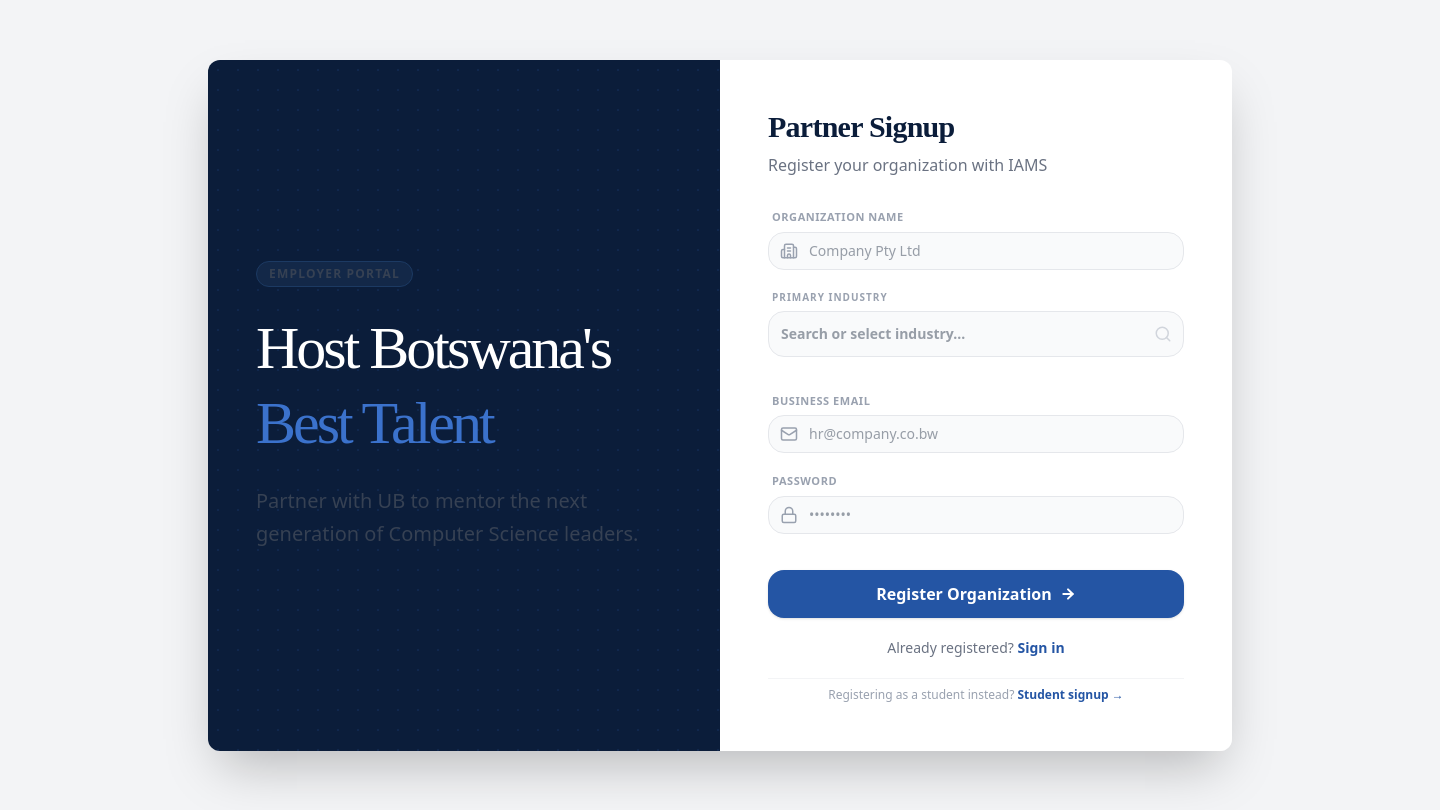
US-02: Organisation Registration › shows error banner when org registration fails
The image size is (1440, 810).
Type "Test Org" into the field with placeholder "Company Pty Ltd" at (976, 250), box x1=768 y1=232 x2=1184 y2=270
Type "Technology" into the field with placeholder "Search or select industry..." at (976, 334), box x1=768 y1=310 x2=1184 y2=356
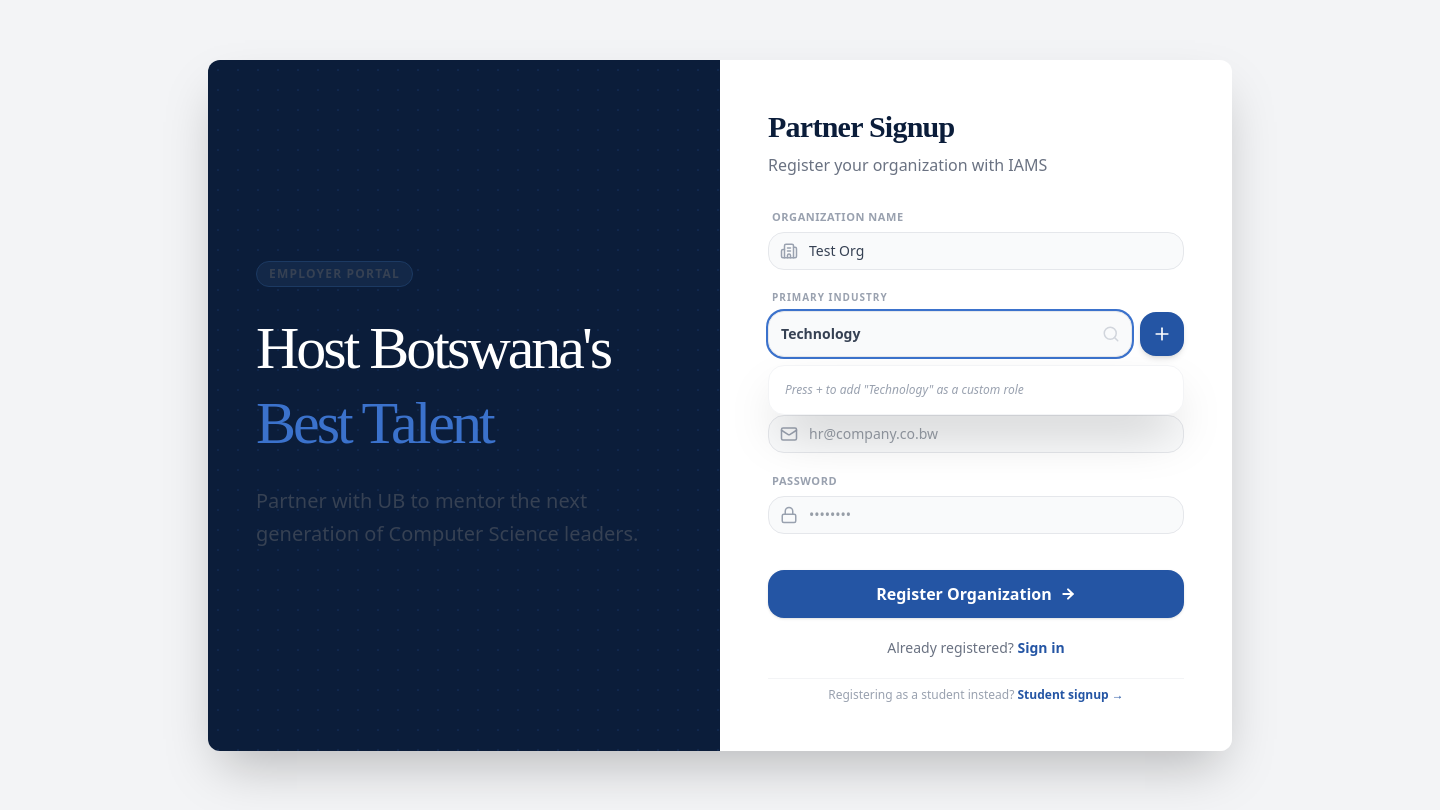
Click the 1st button at (1162, 334), box x1=1140 y1=312 x2=1184 y2=356
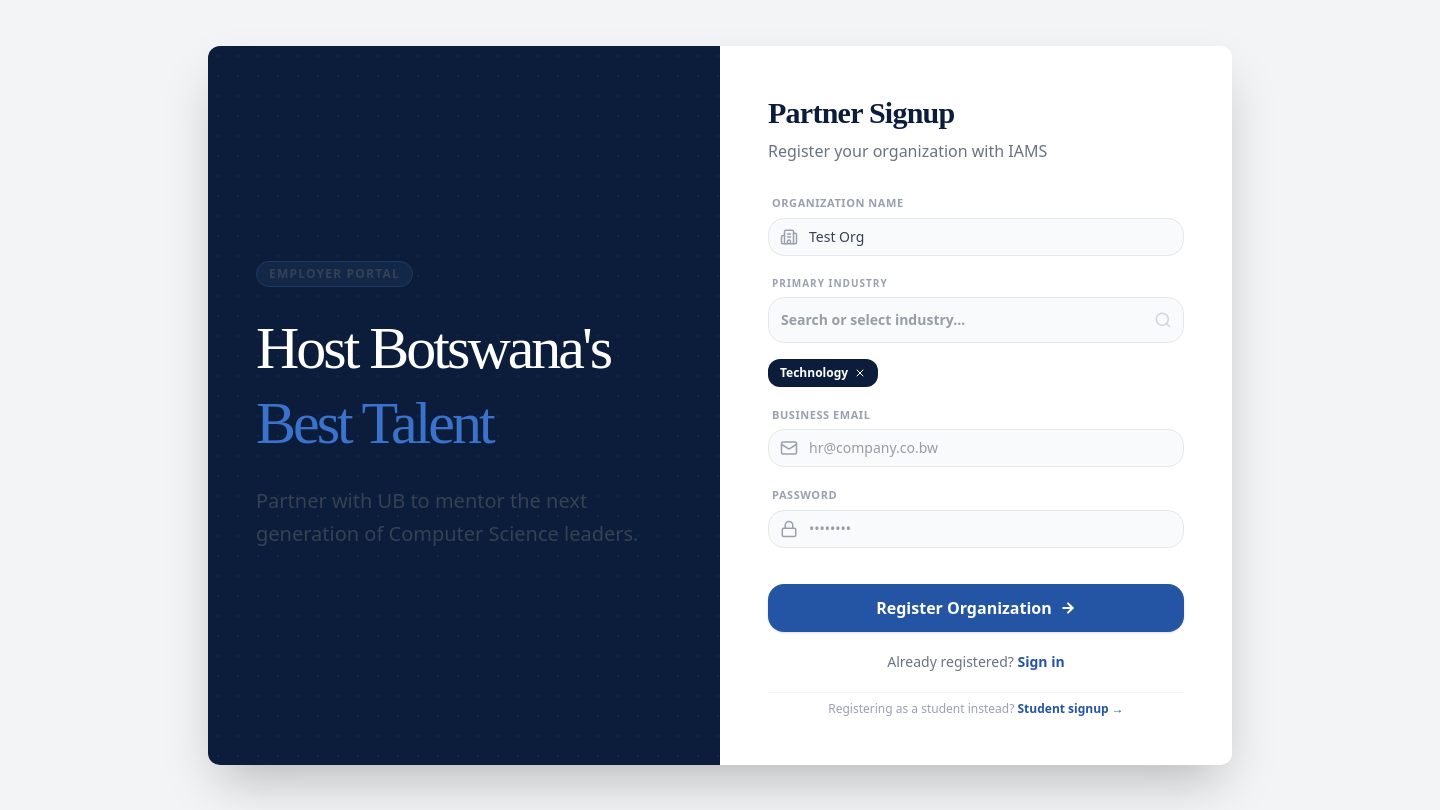
Type "hr@testorg.com" into the field with placeholder "hr@company.co.bw" at (976, 448), box x1=768 y1=429 x2=1184 y2=467
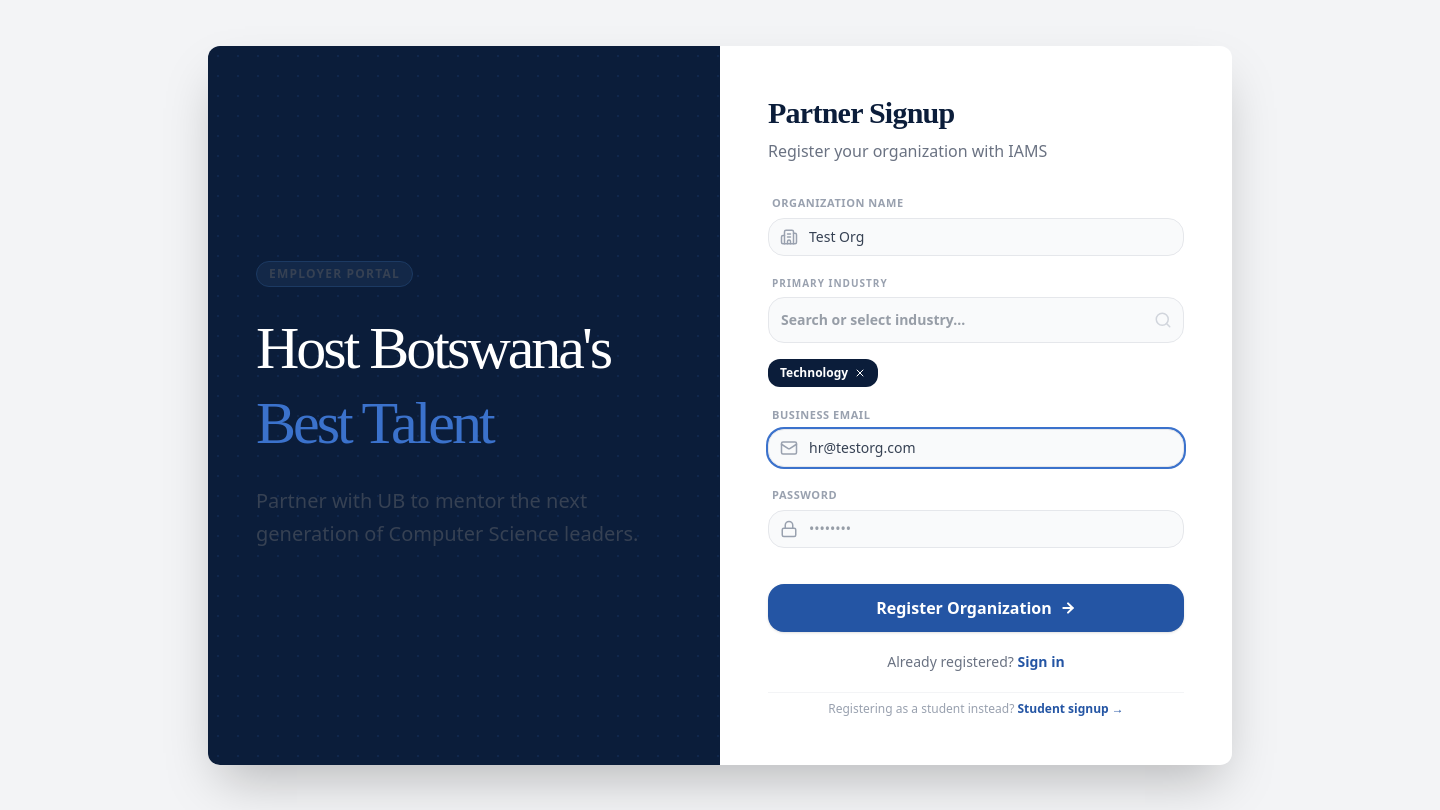
Type "Secure@123" into the password field with placeholder "••••••••" at (976, 528), box x1=768 y1=510 x2=1184 y2=548
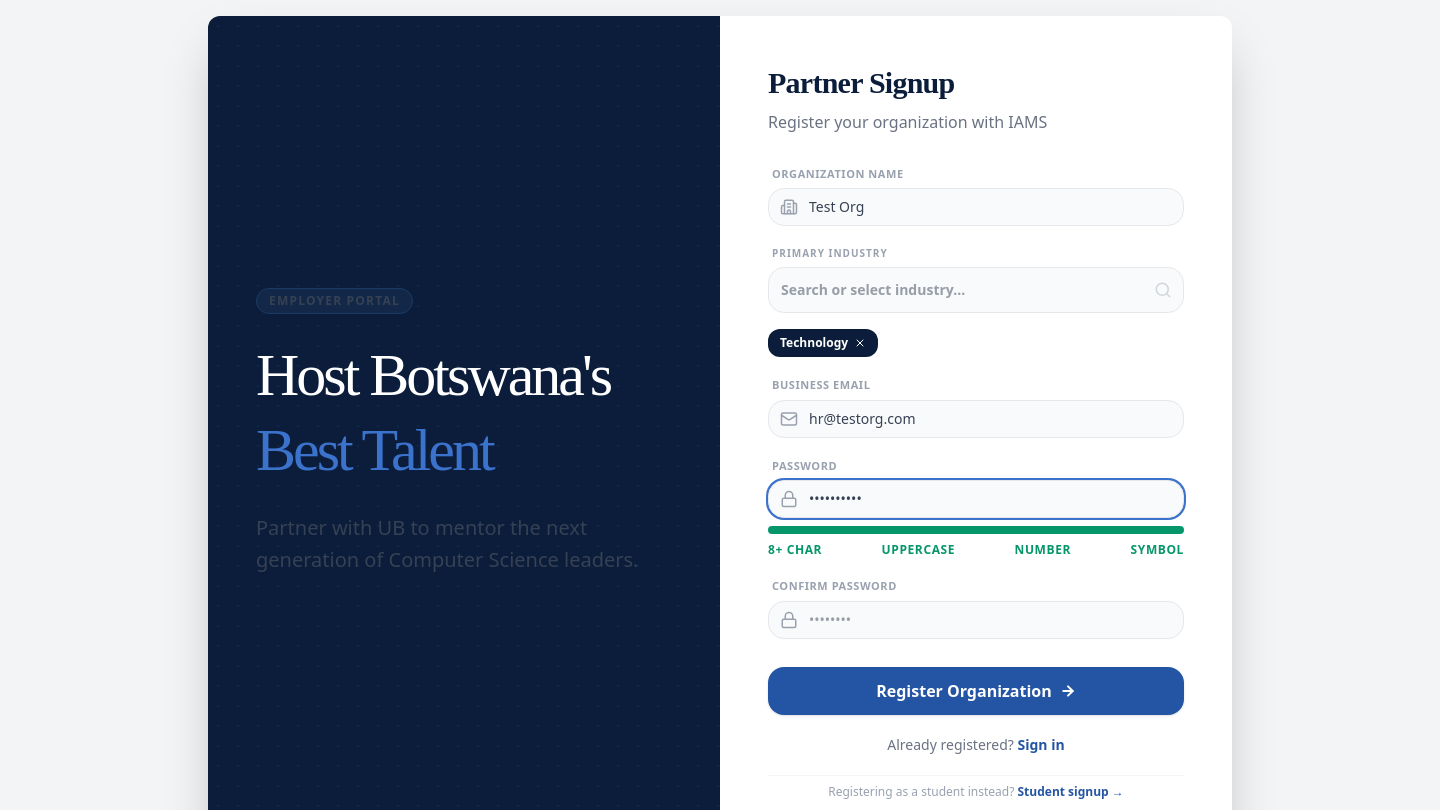
Type "Secure@123" into the password field with placeholder "••••••••" at (976, 620), box x1=768 y1=600 x2=1184 y2=638
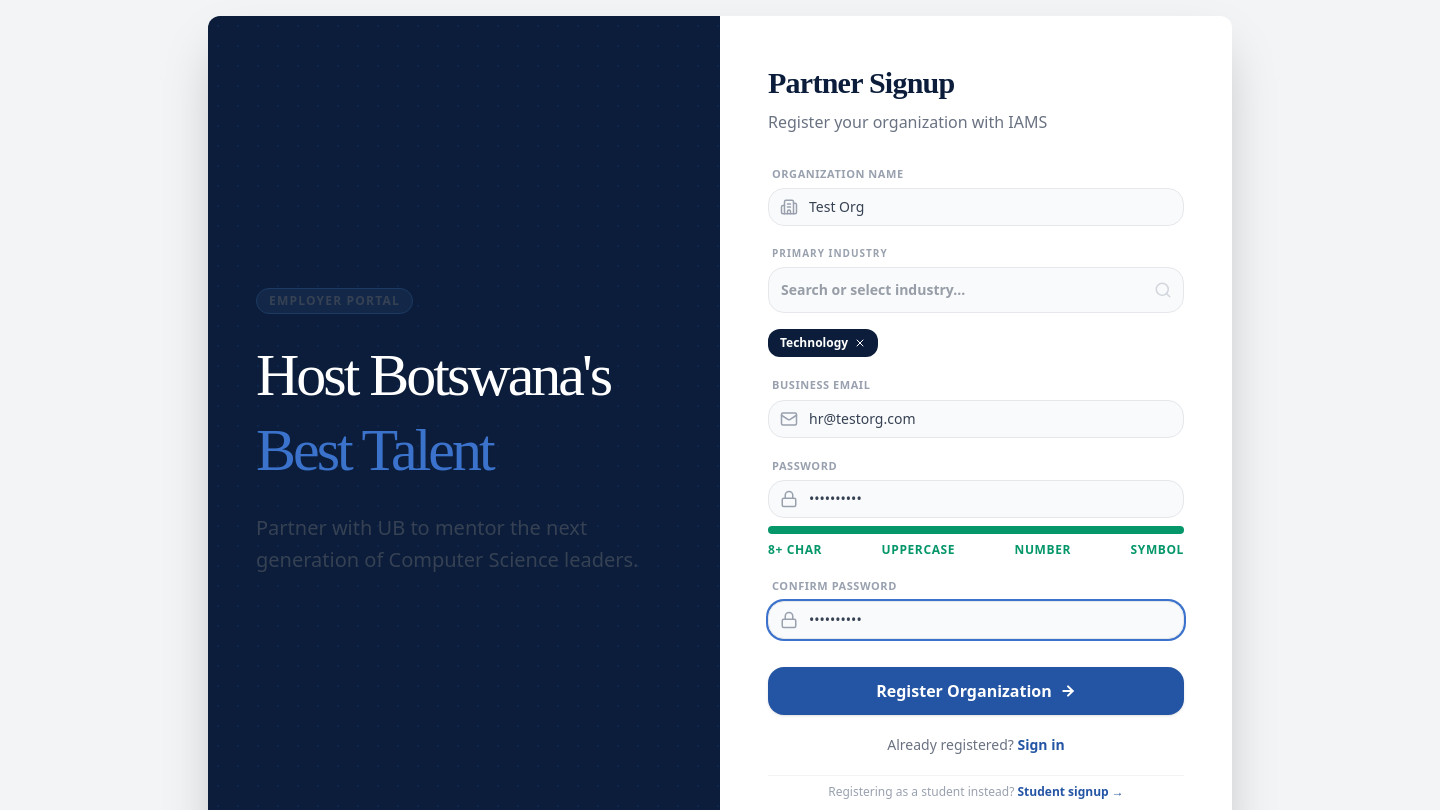
Click the button "Register Organization" at (976, 690), box x1=768 y1=666 x2=1184 y2=714
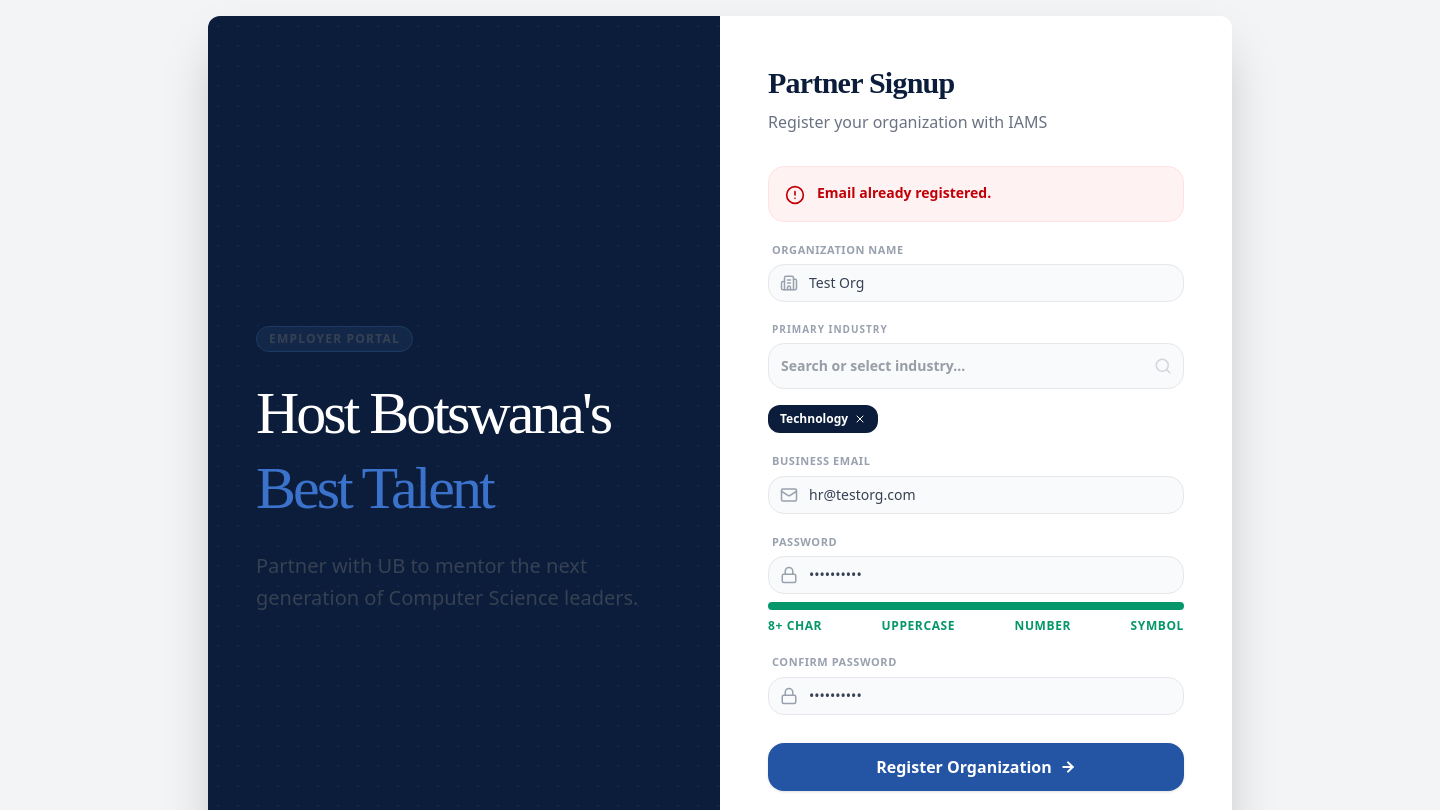
Now the text "Email already registered." is shown, box x1=817 y1=182 x2=991 y2=202
